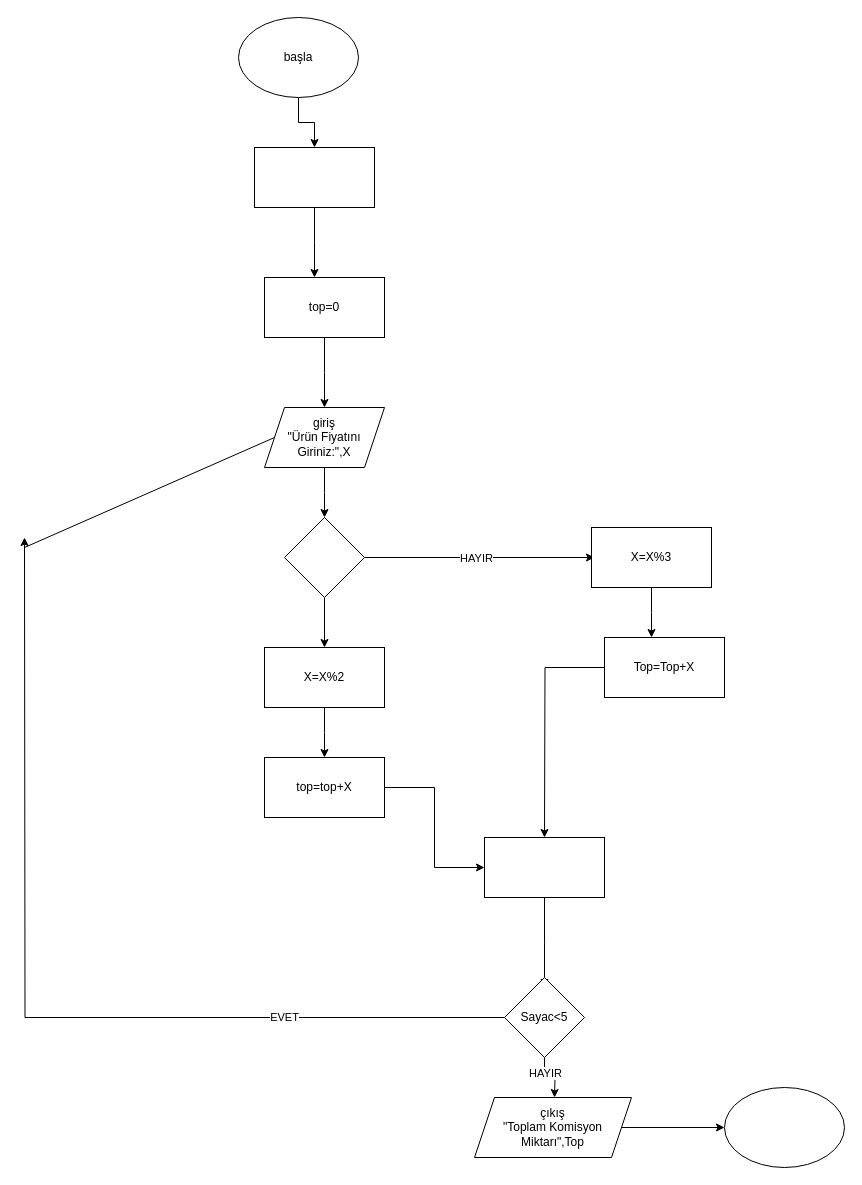
The diagram is 862 pixels wide and 1185 high, and some of its shapes have lost their labels. The shapes that lost their labels are listed below. From the top down, each one's box as (x1, y1, x2, y2) in pixels, then its label:
(254, 146, 374, 208): sayac=0
(284, 516, 364, 598): X>50
(484, 836, 604, 898): Sayac=Sayac+1
(724, 1086, 844, 1168): dur
